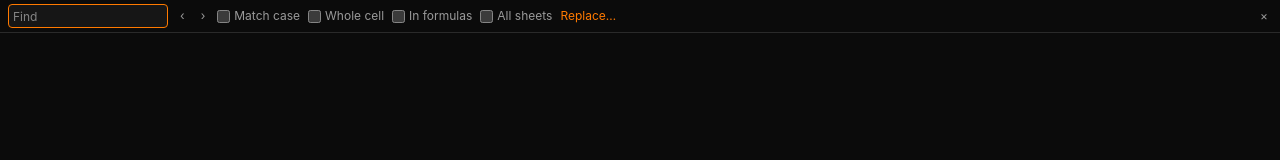
Test: the find strip › reports how many a Replace All changed
This screenshot has width=1280, height=160.
In the field labelled "Find": (88,16) [8, 4, 168, 28], type "north"
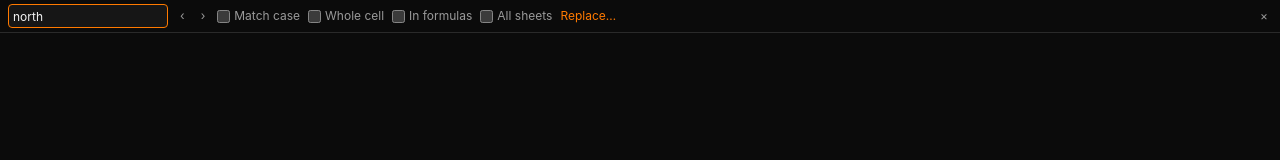
Click the button "Replace…": (588,16) [560, 8, 616, 24]
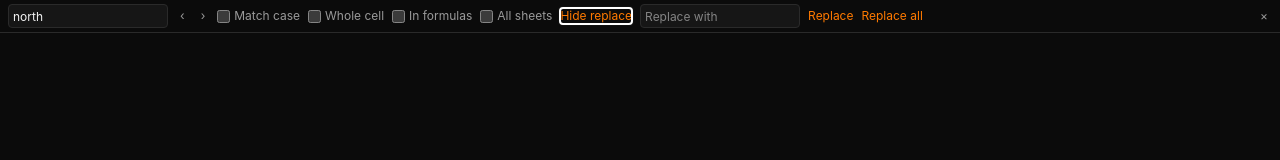
Click the button "Replace all": (892,16) [862, 8, 923, 24]
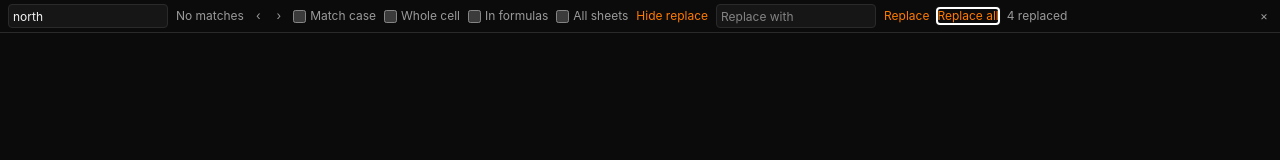
expect the text "4 replaced" is shown: met, box [1007, 8, 1067, 24]
